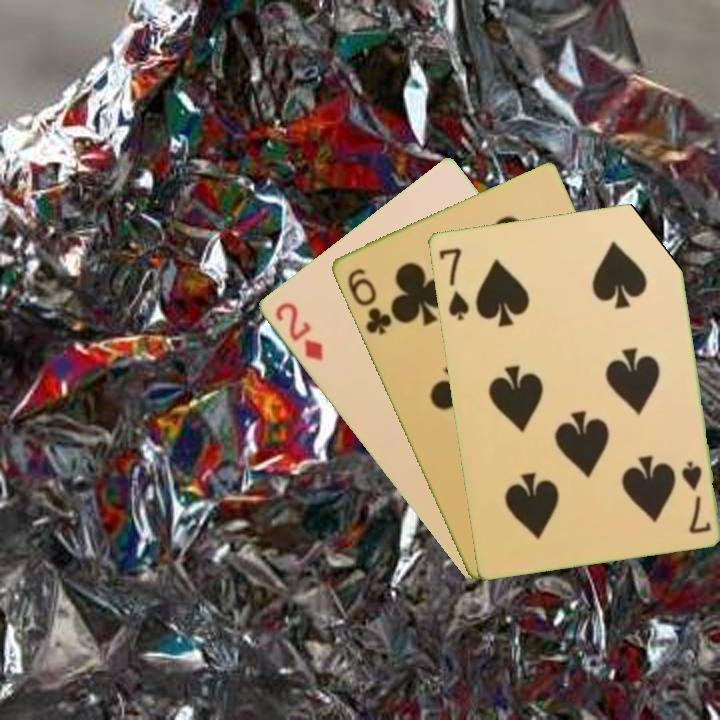2d: (271, 298, 326, 365)
6c: (343, 264, 394, 338)
7s: (677, 457, 714, 537), (435, 244, 472, 323)
